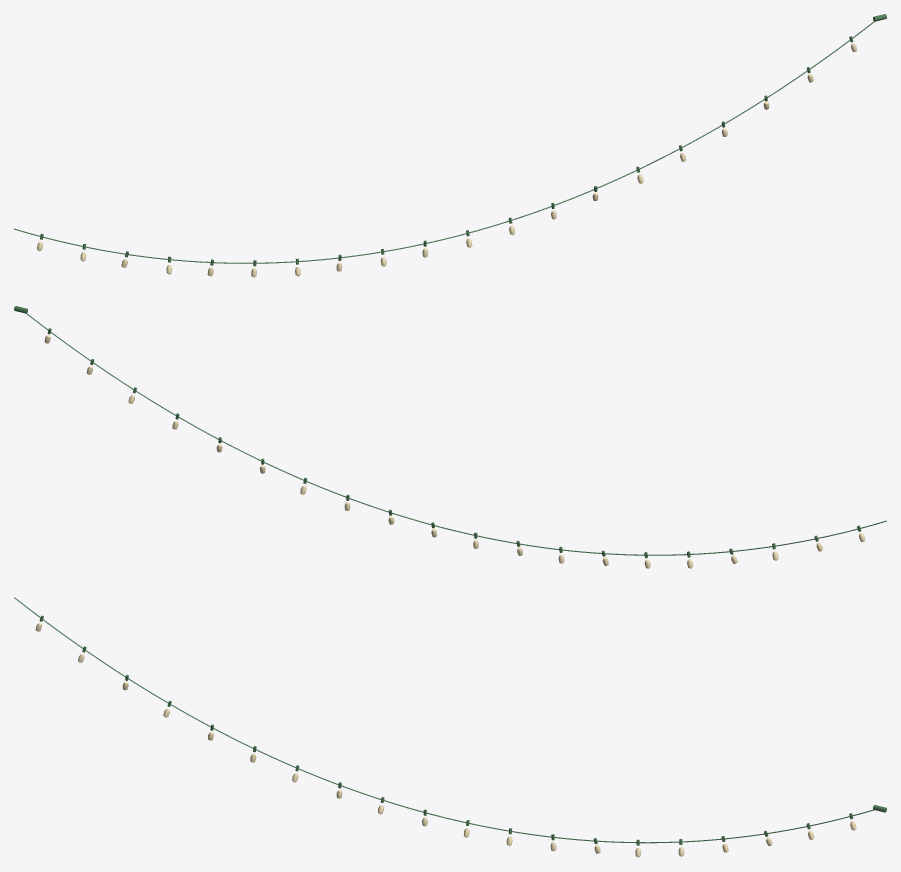
File: furniture_fairy_lights.fbx
3 views of the same model, one above another, from view 1: azimuth 30°, elevation 25°; view 2: azimuth 150°, elevation 25°; view 3: azimuth 330°, elevation 25° (orthographic).
Visible parts, largest first — view 1: furniture_fairy_lights; view 2: furniture_fairy_lights; view 3: furniture_fairy_lights.
Part boxes in pixels (bbox=[...]): furniture_fairy_lights: bbox=[14, 14, 886, 277]; furniture_fairy_lights: bbox=[14, 306, 886, 568]; furniture_fairy_lights: bbox=[14, 597, 886, 857].
Size of the model in its own units: 2.22 by 0.3191 by 0.0268.
